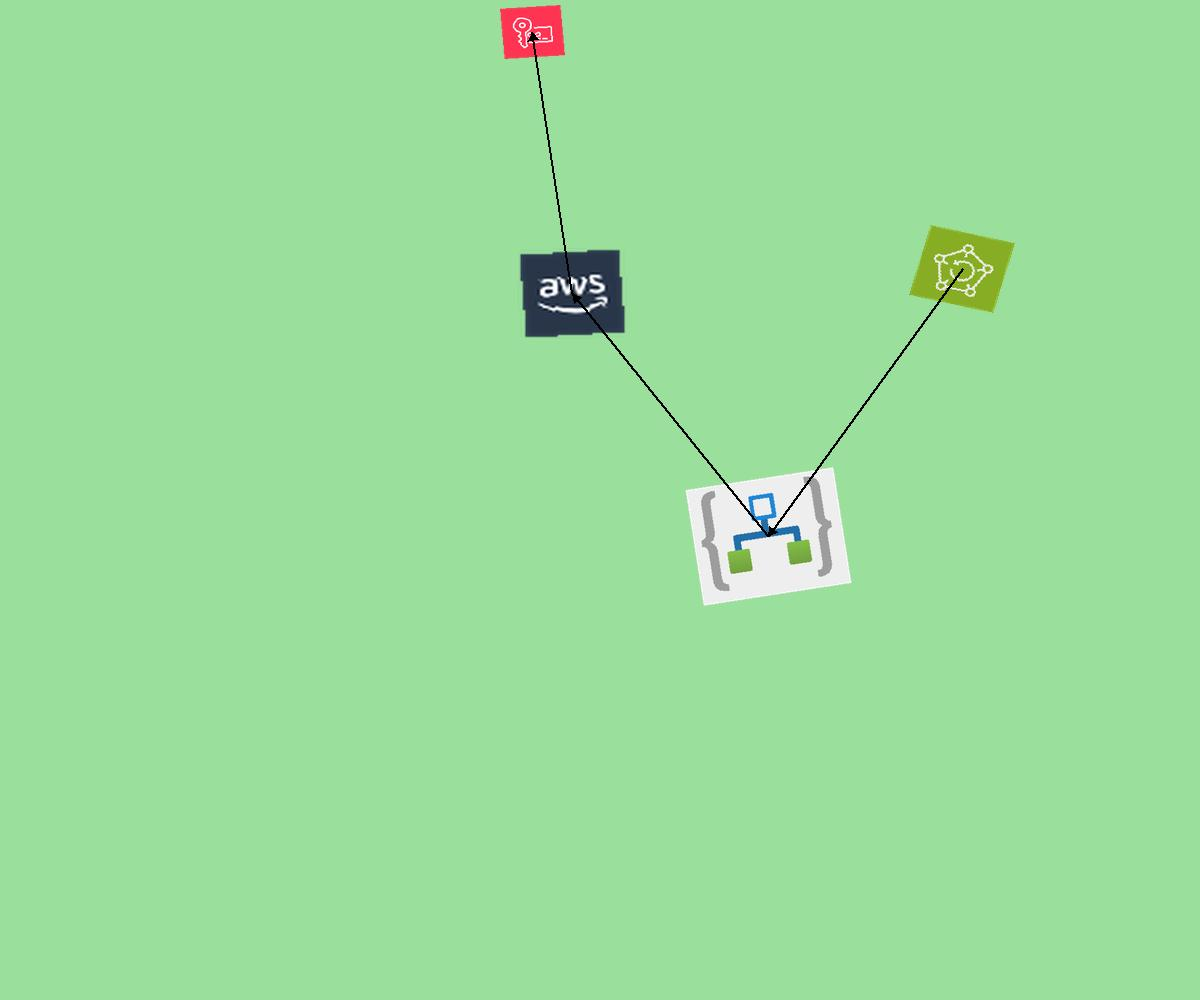AWS-Backup: (909, 225, 1015, 313)
AWS-Cloud-logo: (518, 248, 627, 339)
AWS-Key-Management-Service: (500, 5, 565, 59)
Azure_integration-204-Logic-Apps: (685, 467, 852, 606)
